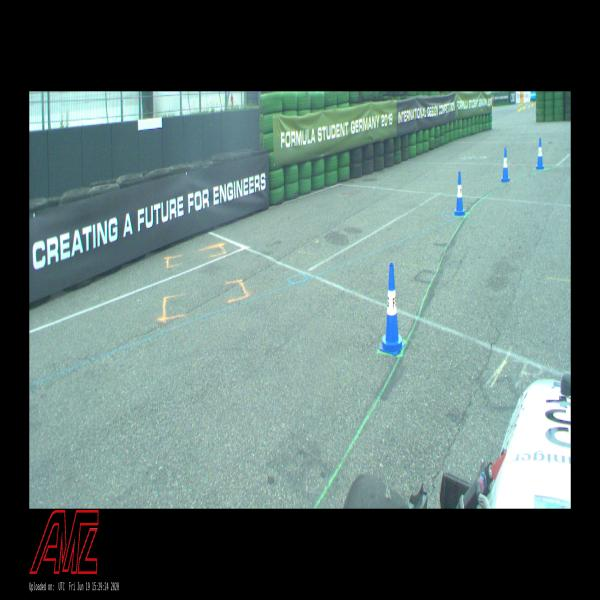blue_cone: (379, 263, 405, 355), (454, 171, 465, 216), (501, 148, 510, 182), (536, 138, 544, 169)
